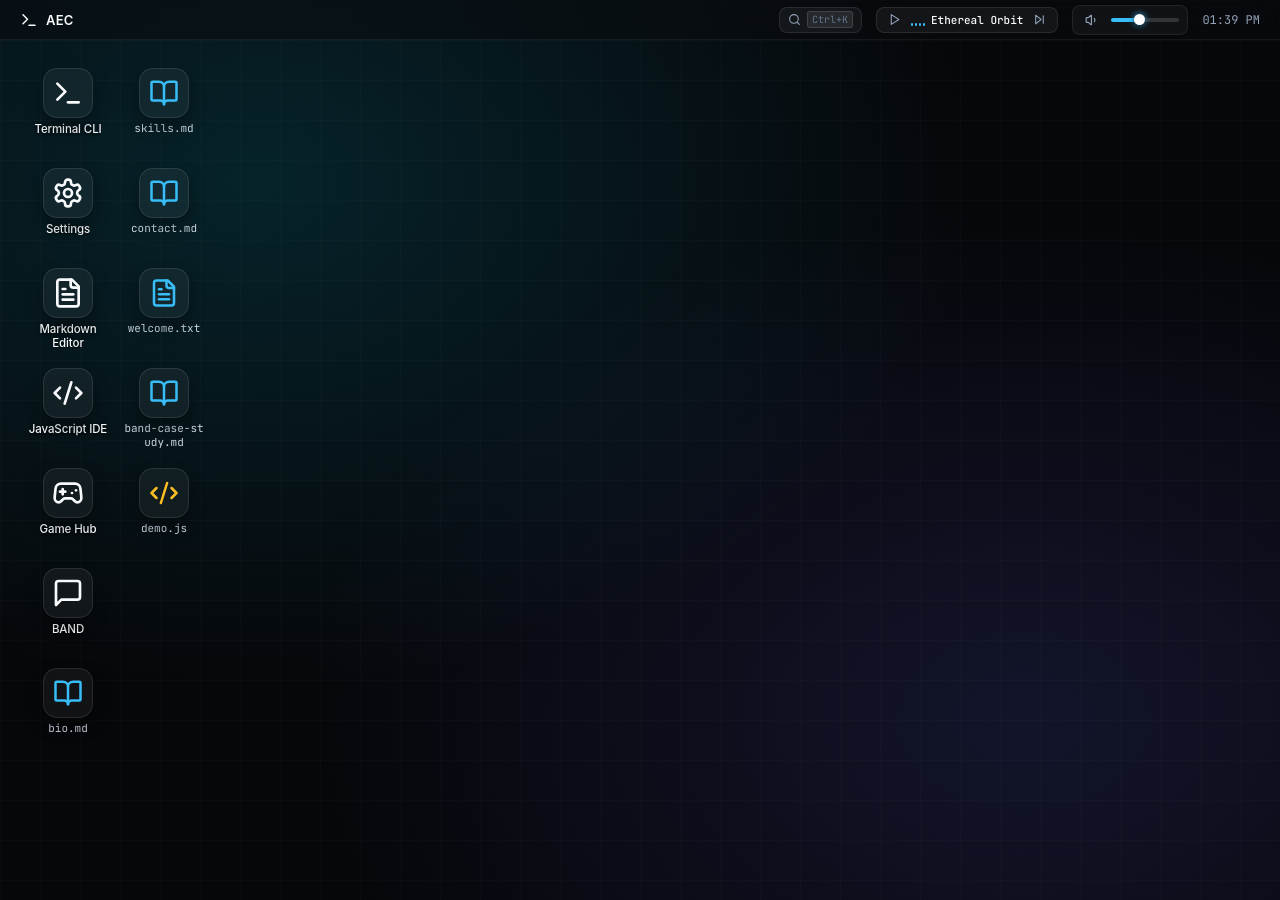
Test: Desktop Component › Mobile Springboard Mode › opens Spotlight Command Palette when clicking the statusbar spotlight button
Expected: the text "Ctrl+K" is shown, [807, 11, 853, 28]
Click the button with test id "statusbar-spotlight-btn": (820, 20) [779, 6, 862, 32]
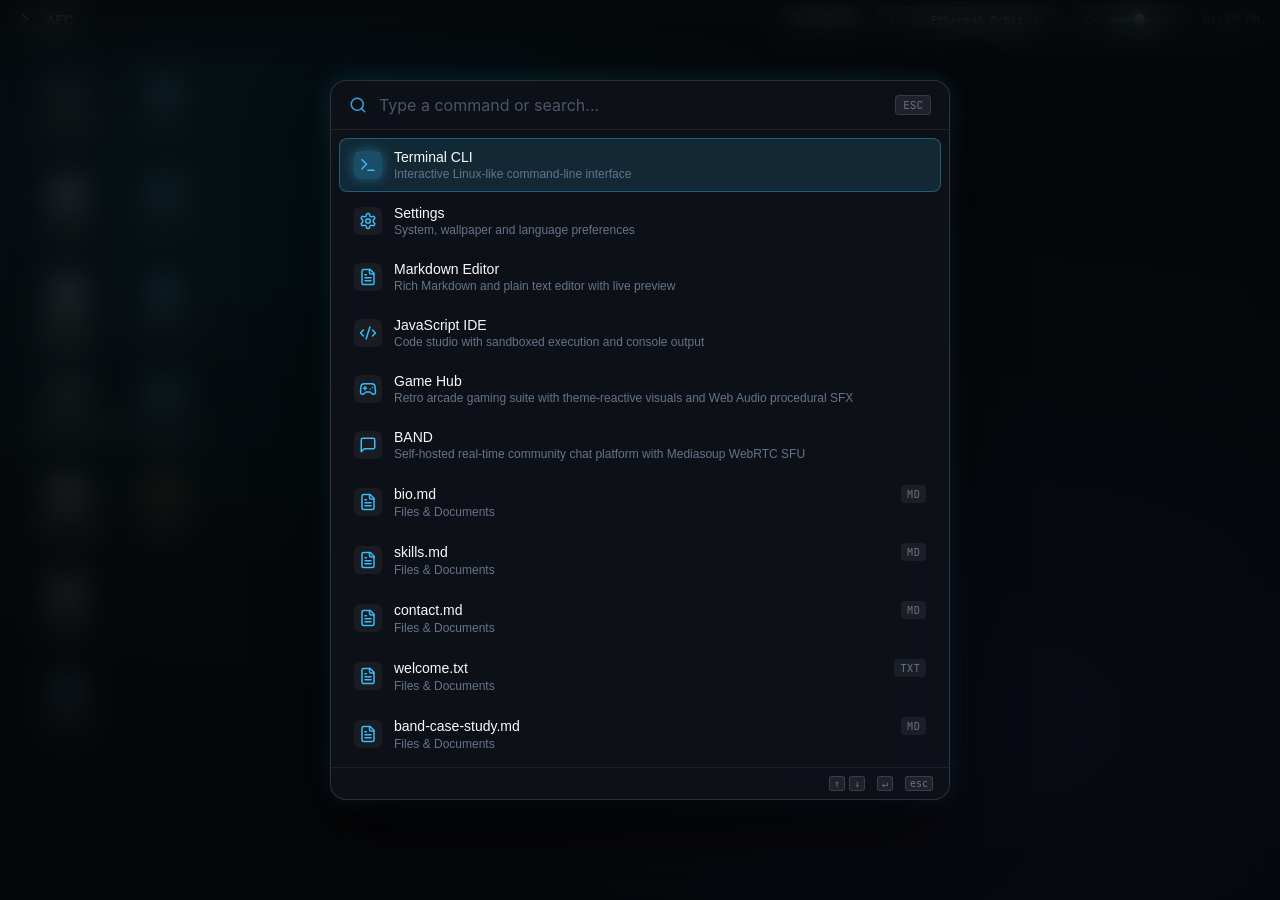
Expected: the dialog named "Spotlight Command Palette" is shown, [330, 80, 950, 800]
